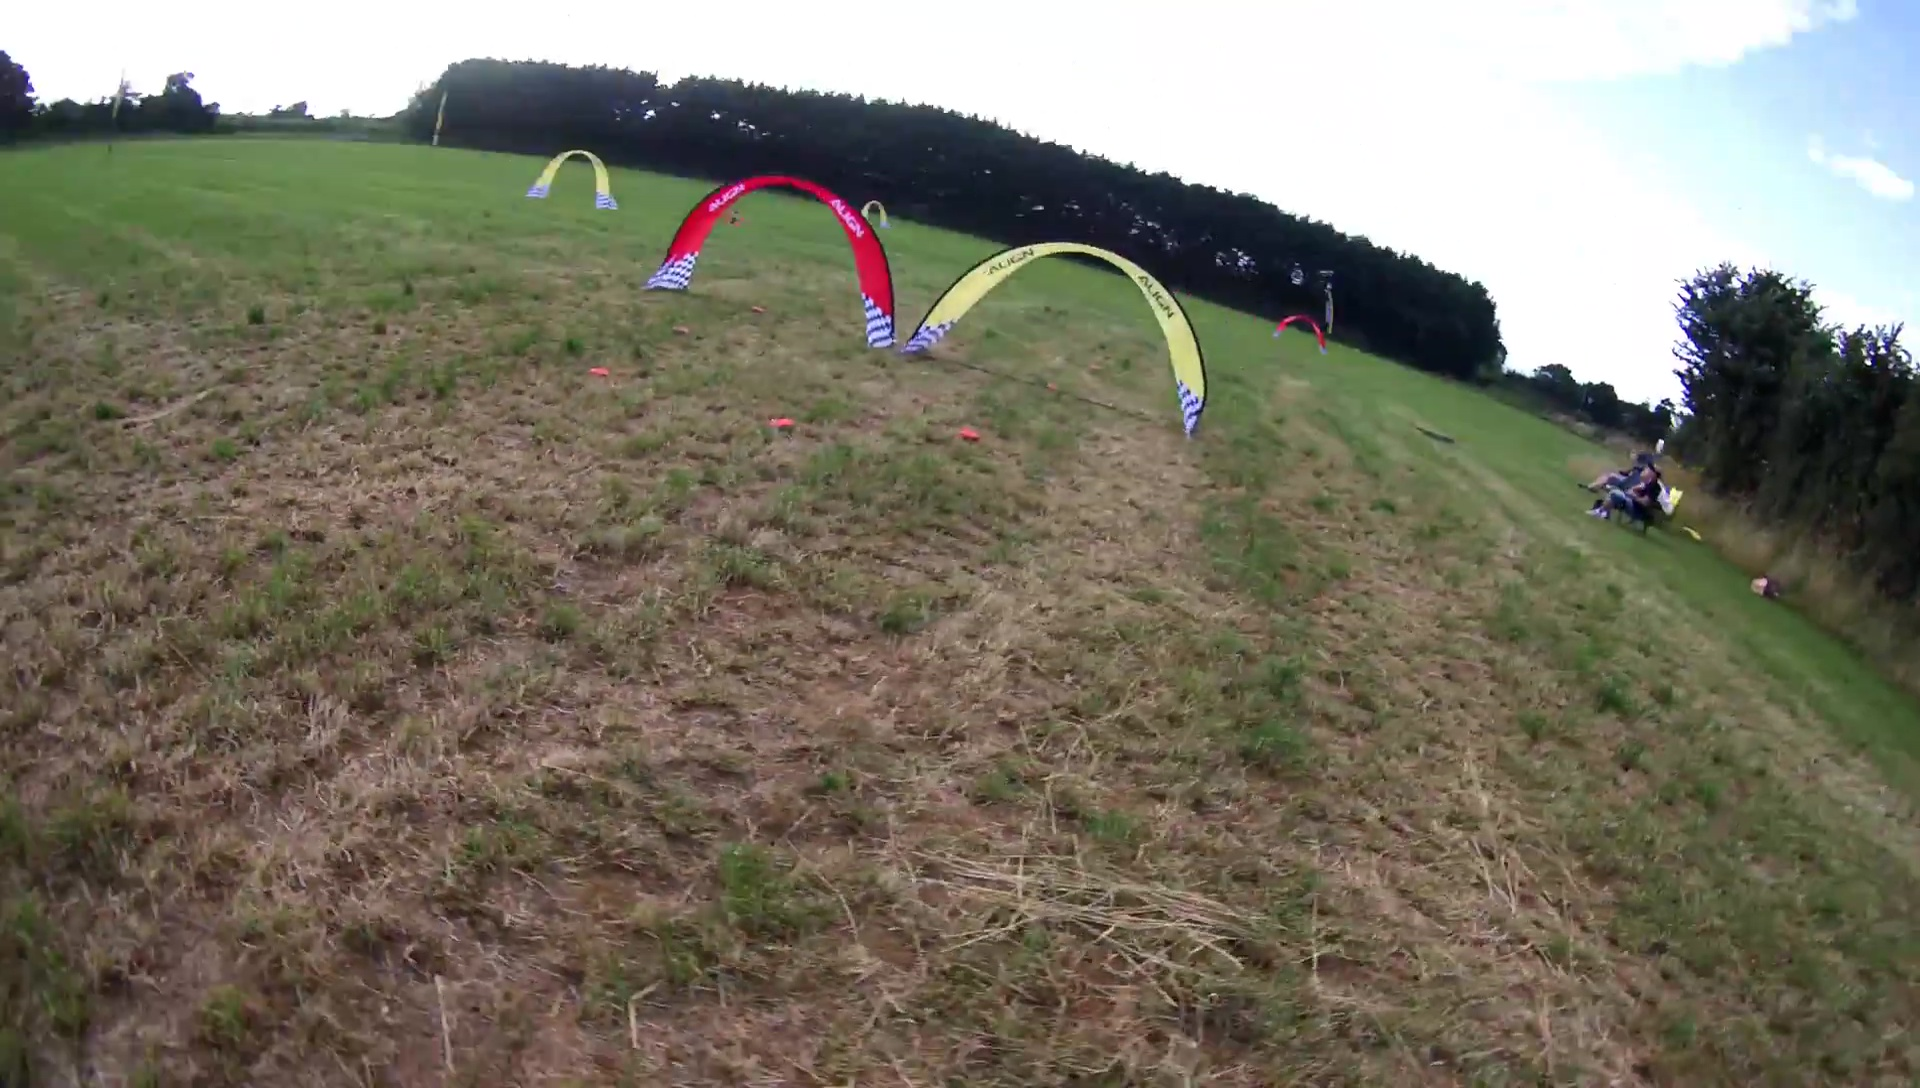gate: (906, 239, 1211, 437), (644, 171, 899, 349), (527, 152, 620, 215), (1273, 313, 1328, 348), (860, 200, 891, 229)
